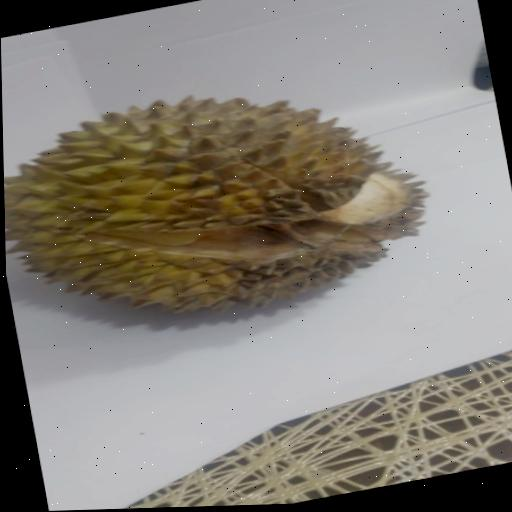rot: (1, 32, 493, 369)
